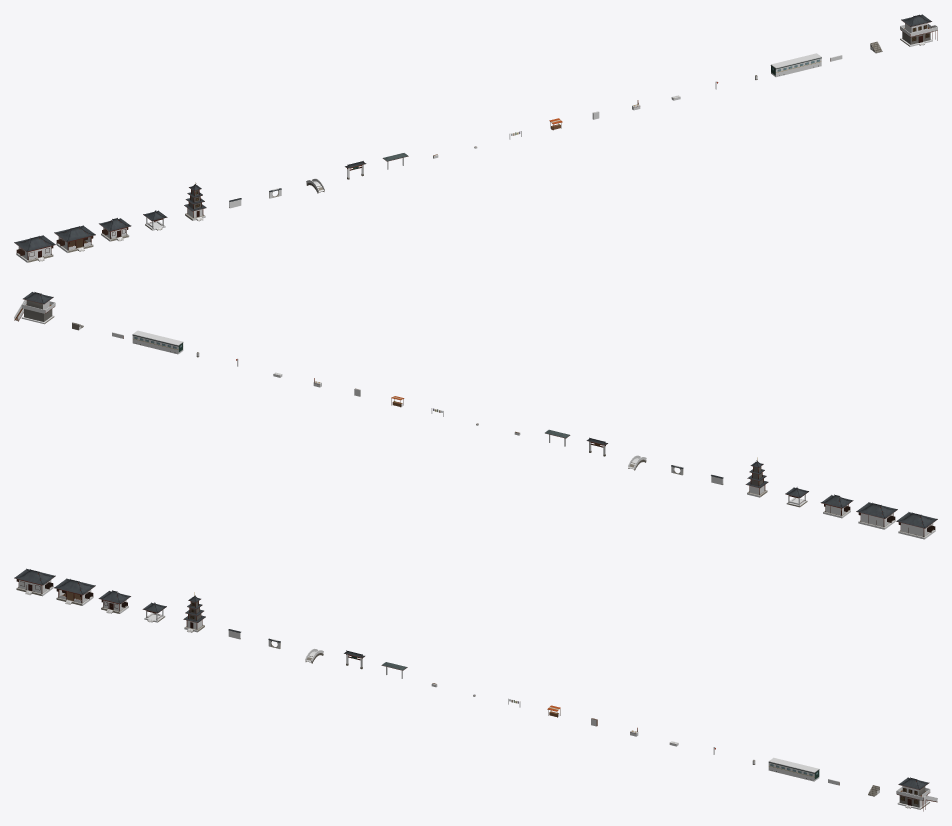
The model's file is kit.glb.
3 views of the same model, one above another, from view 1: azimuth 30°, elevation 25°; view 2: azimuth 150°, elevation 25°; view 3: azimuth 330°, elevation 25° (orthographic).
Parts seen in each view (by area): view 1: hall_open.001, COL_train_shell, hall.001, library.001; view 2: COL_train_shell, library.001, hall_open.001; view 3: hall_open.001, COL_train_shell, hall.001, library.001.
Boxes of the visible parts, <box> form: hall_open.001: <box>54,225,95,252</box>; COL_train_shell: <box>771,53,821,77</box>; hall.001: <box>14,235,55,262</box>; library.001: <box>900,14,937,46</box>; COL_train_shell: <box>132,330,183,354</box>; library.001: <box>14,292,54,323</box>; hall_open.001: <box>856,502,897,527</box>; hall_open.001: <box>54,578,95,605</box>; COL_train_shell: <box>768,757,819,781</box>; hall.001: <box>14,568,55,595</box>; library.001: <box>897,777,937,811</box>.
Bounding box in the file's own units: 319 × 12.62 × 9.55.
